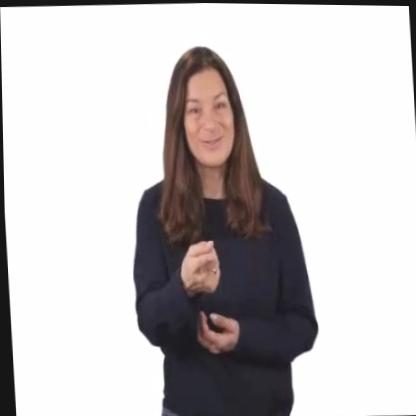HowAreYou: (170, 227, 244, 365)
